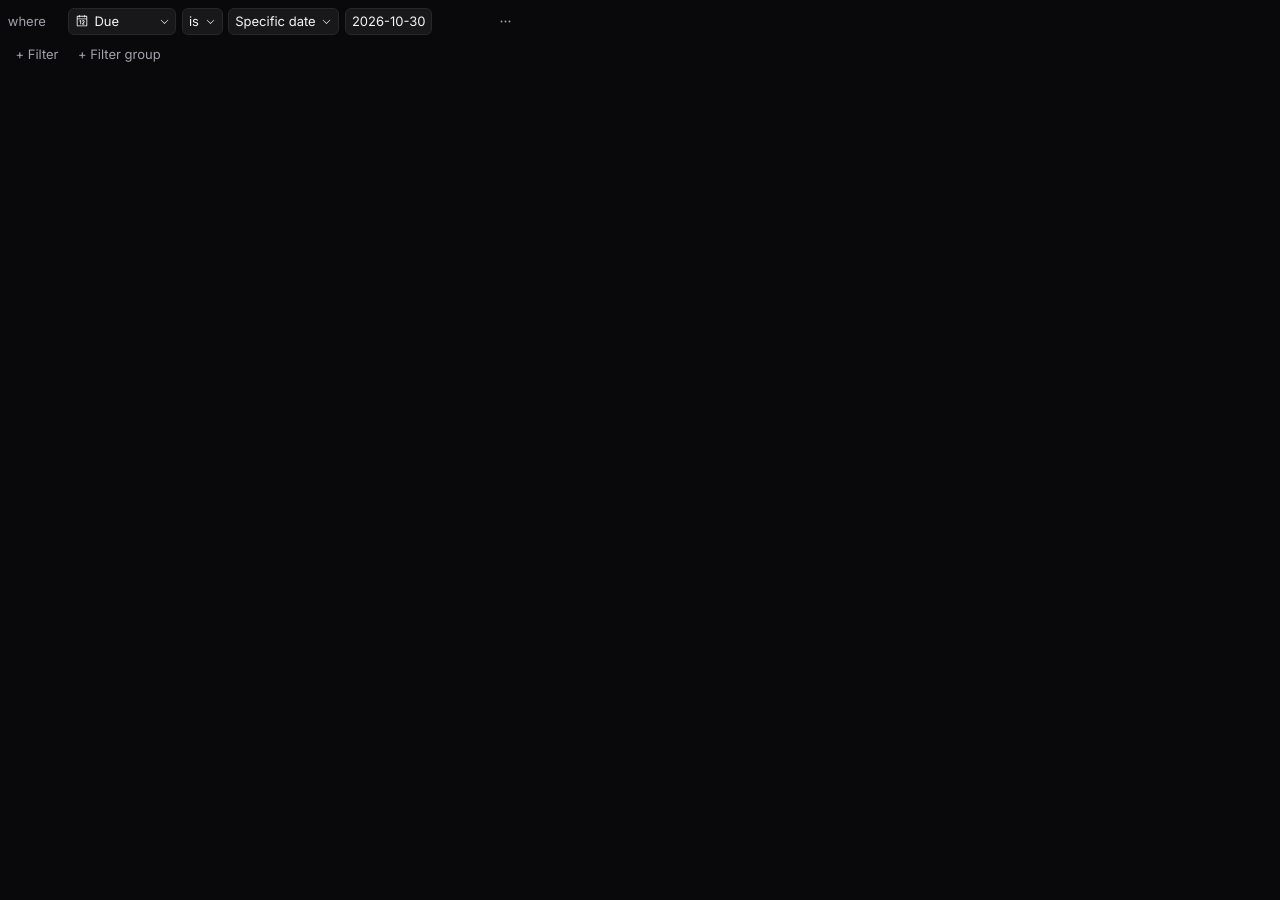
Test case: FilterEditor › test a typed day and Enter set the filter date and close the picker (M32)
Click the button named "Select date": (389, 21) 345,8 -> 432,35
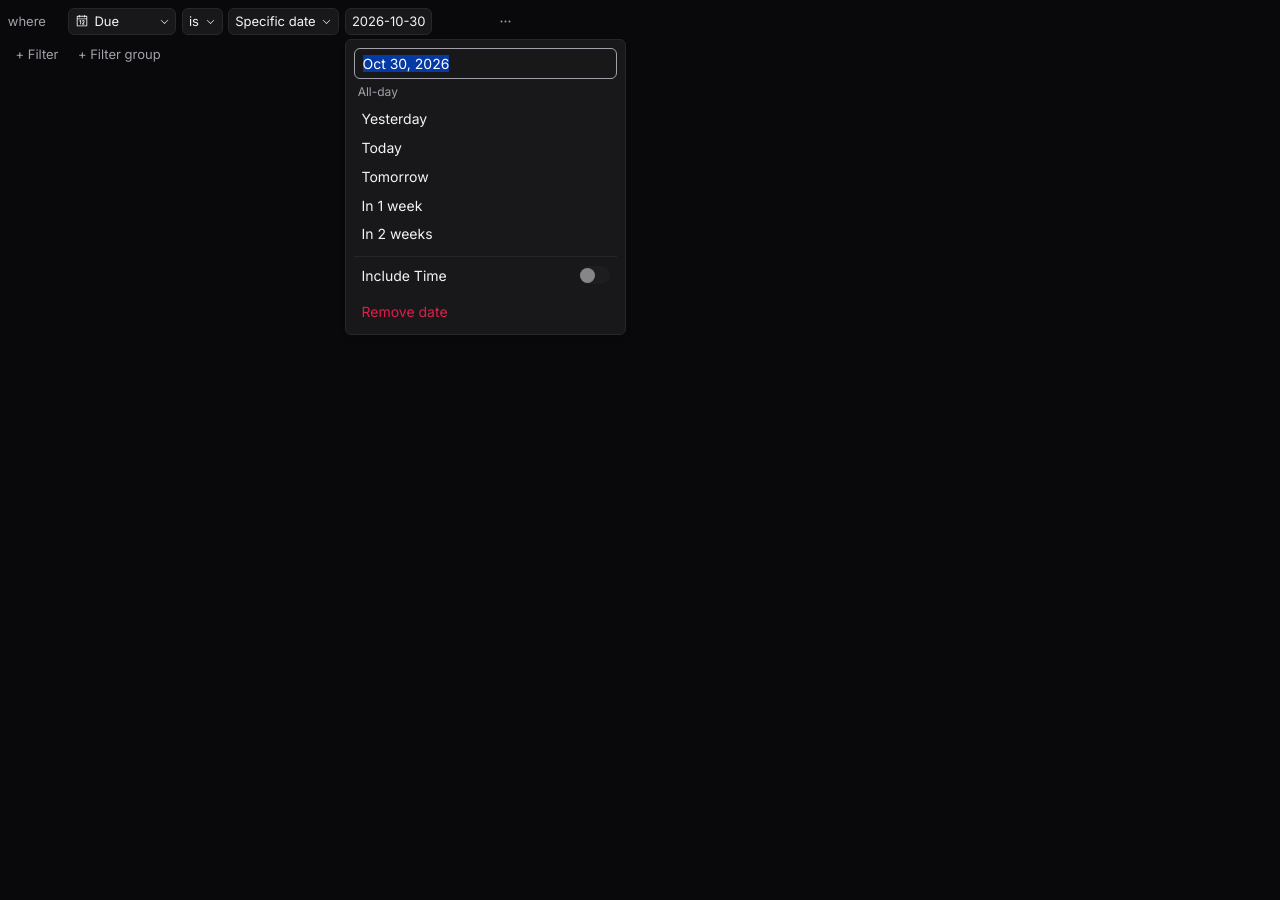
Replace the text in the field named "Starts" with "nov 20 2026": (486, 63) 354,48 -> 617,79
Then press Enter
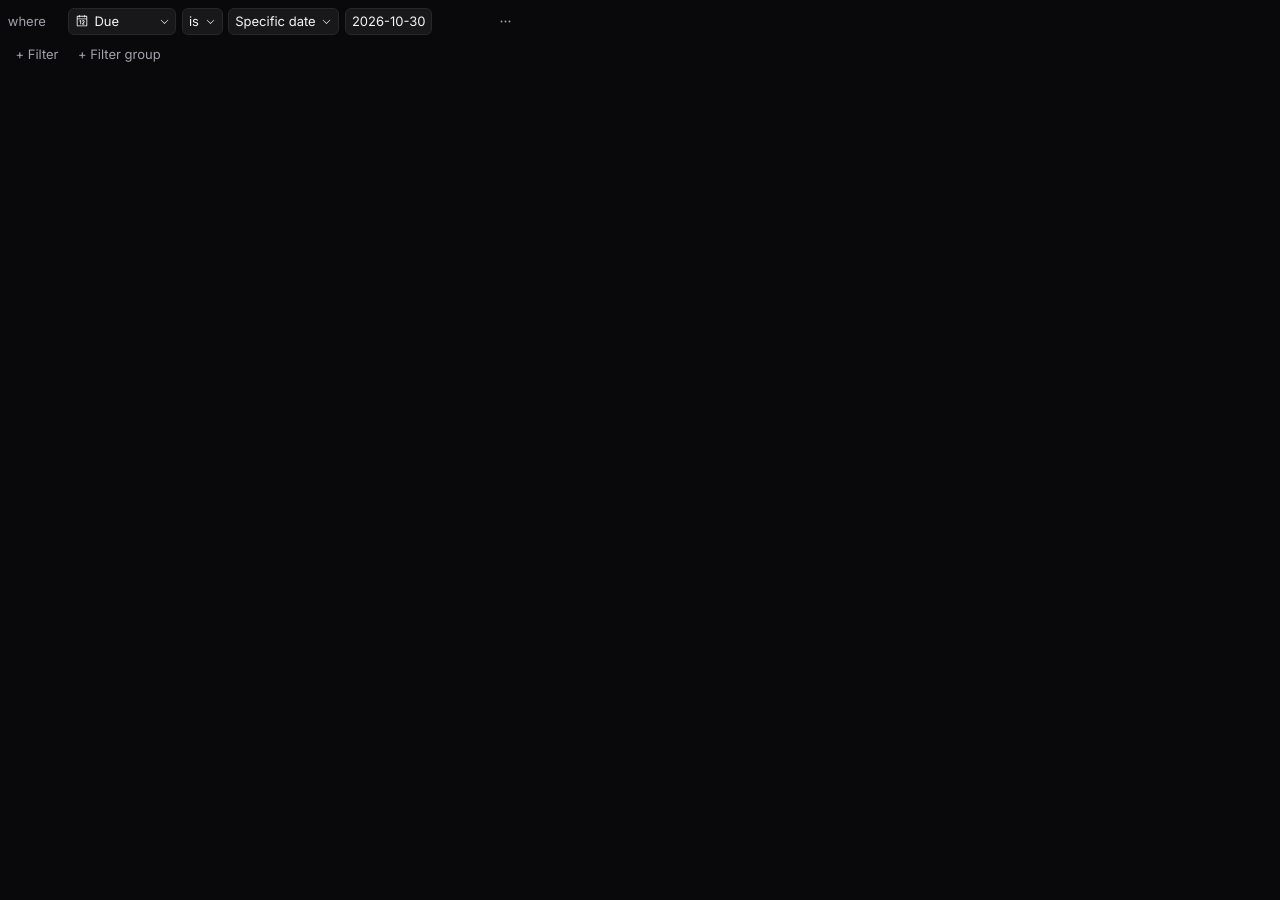
Expected: the element with test id "date-picker" is gone
